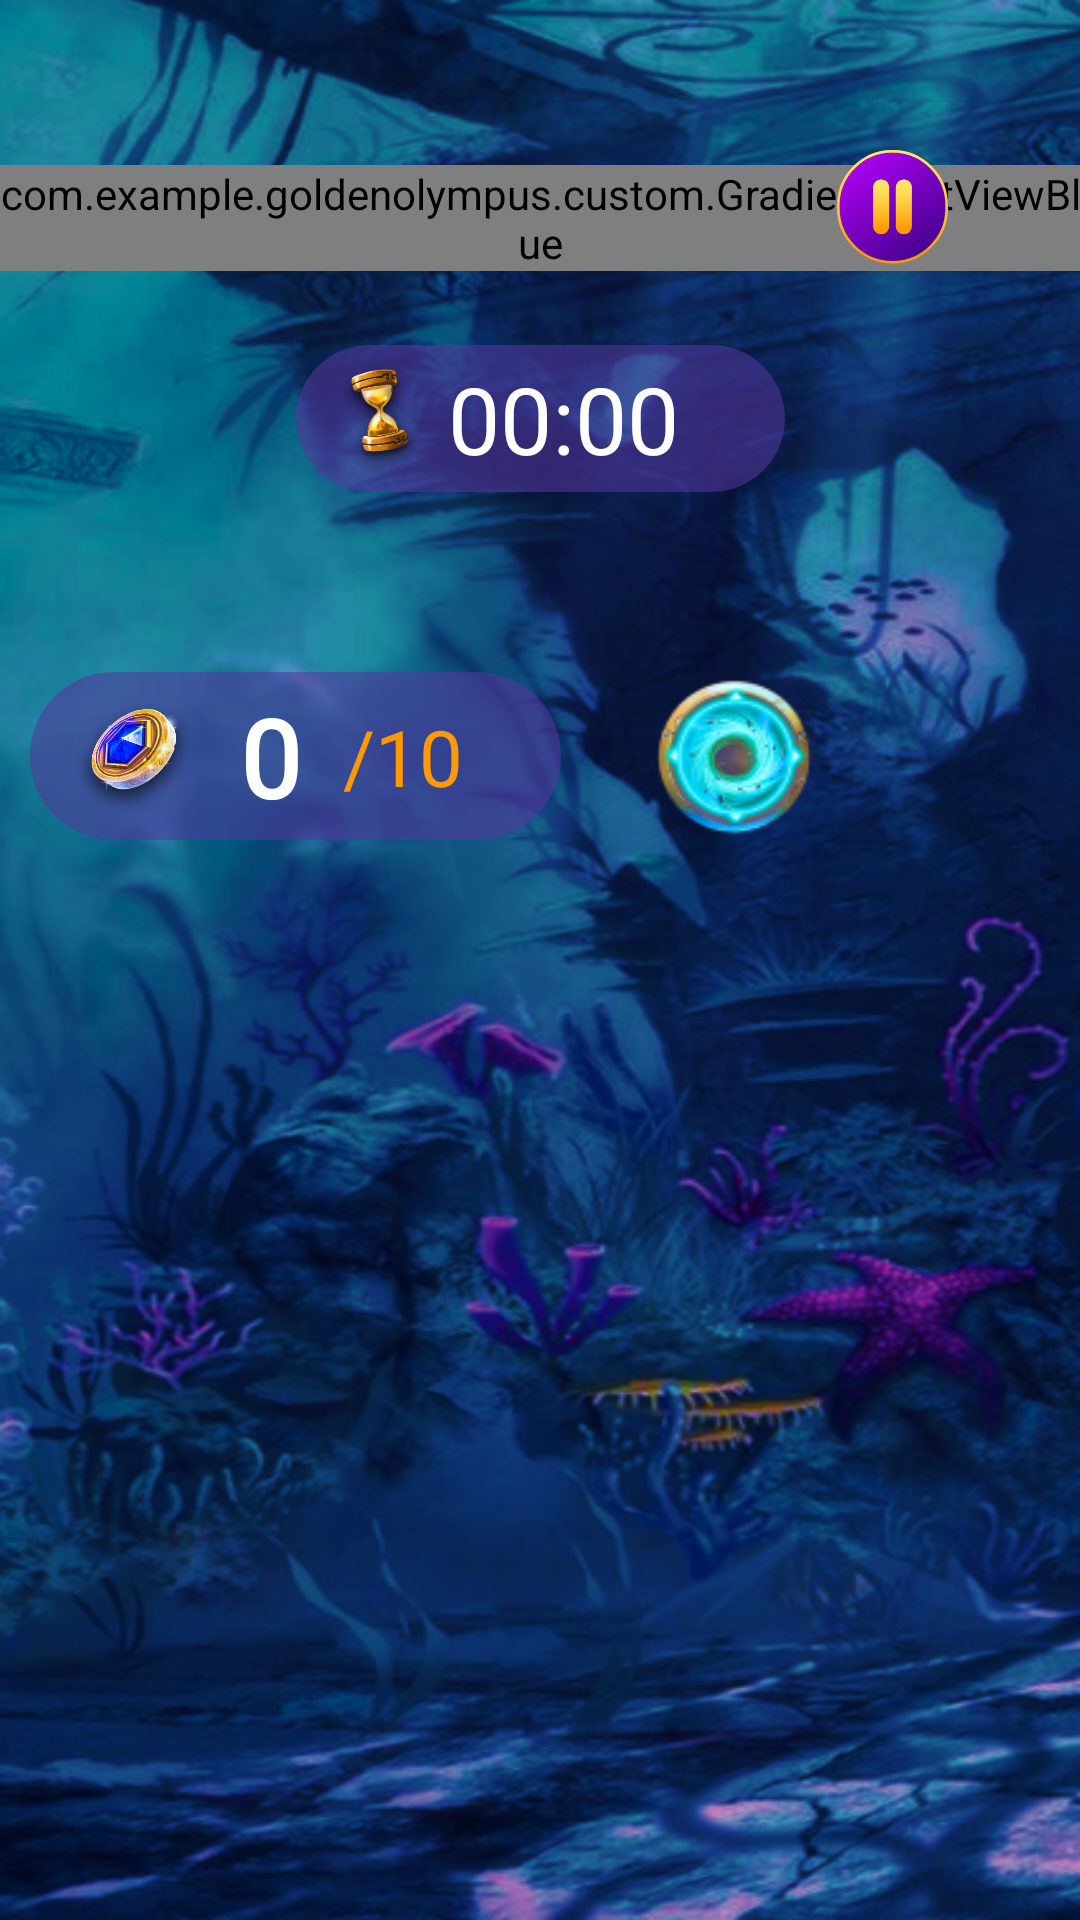

Screen size 1080px x 1920px. Icon name, then its center in pixels as (x,y):
pause: (892,217)
time: (376,427)
